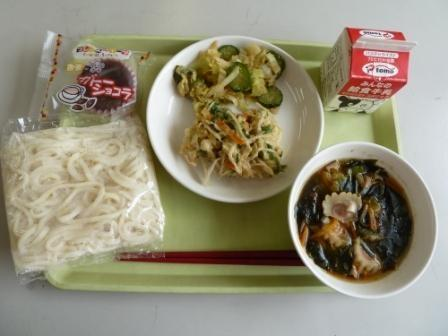Milk: (327, 25, 430, 115)
Salad: (189, 37, 281, 107)
Soups: (289, 150, 435, 301)
Udon: (1, 121, 157, 268)
pastry: (56, 40, 147, 117)
salad with sauce: (180, 104, 282, 184)
